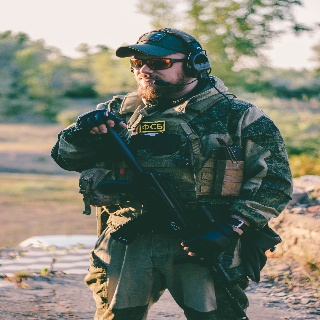rifle: (101, 119, 249, 320)
